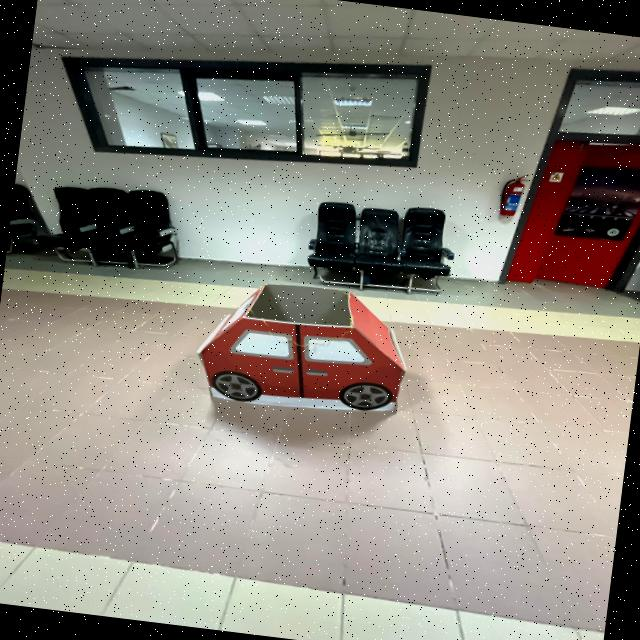red_car: (174, 263, 431, 438)
